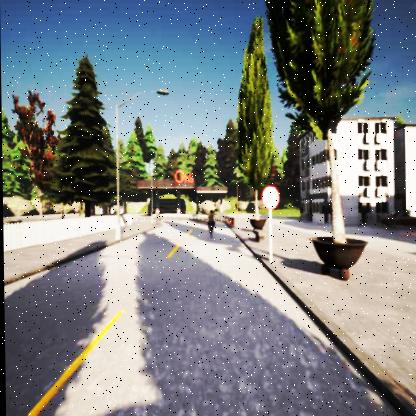motobike: (206, 209, 215, 236)
